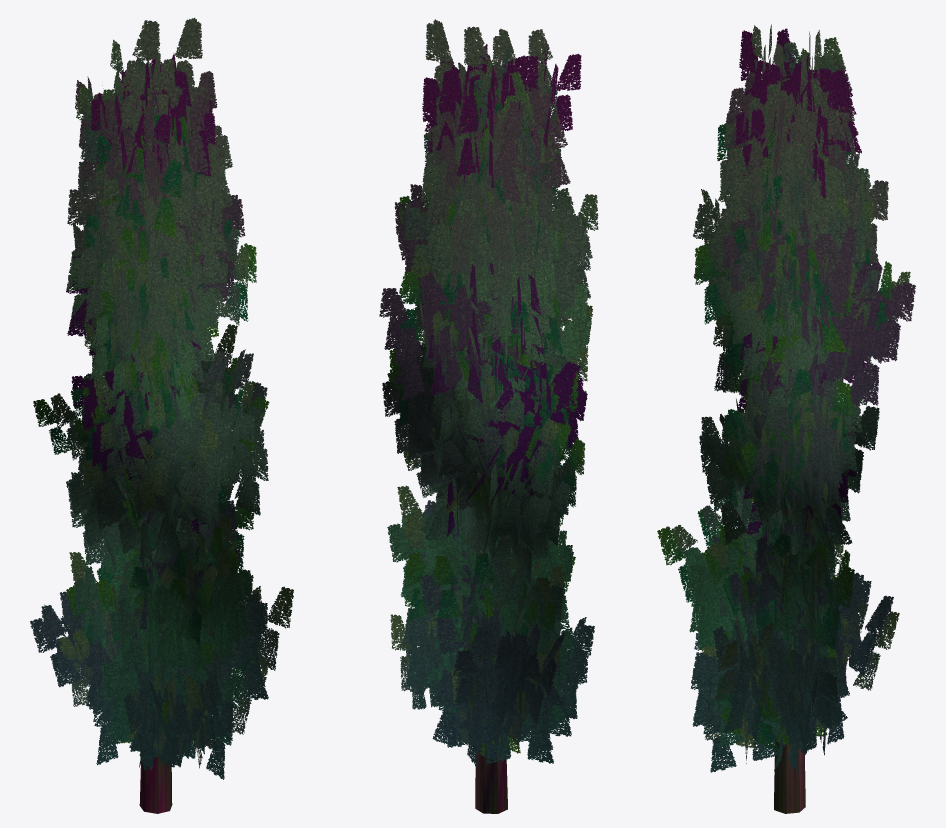
Rendered from nat_cypress_c_LOD0.glb.
The picture shows the model from 3 angles, left to right: view 1: azimuth 30°, elevation 25°; view 2: azimuth 150°, elevation 25°; view 3: azimuth 270°, elevation 25°; orthographic projection.
Visible parts, largest first — view 1: nat_cypress_c_LOD0; view 2: nat_cypress_c_LOD0; view 3: nat_cypress_c_LOD0.
Boxes of the visible parts, <box> form: nat_cypress_c_LOD0: <box>30,17,293,813</box>; nat_cypress_c_LOD0: <box>379,19,598,813</box>; nat_cypress_c_LOD0: <box>657,24,915,813</box>.
Size of the model in its own units: 3.76 by 11.38 by 3.83.
Materials: 2 (2 with a texture image).
